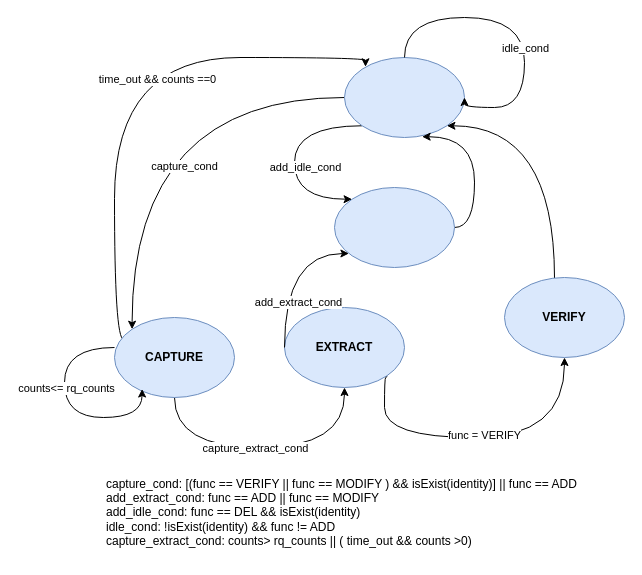
This 642x575 diagram has some shape labels left out. Each missing label, with the box of its shape:
IDLE: (344, 56, 464, 138)
MODIFY DATABASE: (334, 186, 454, 268)
